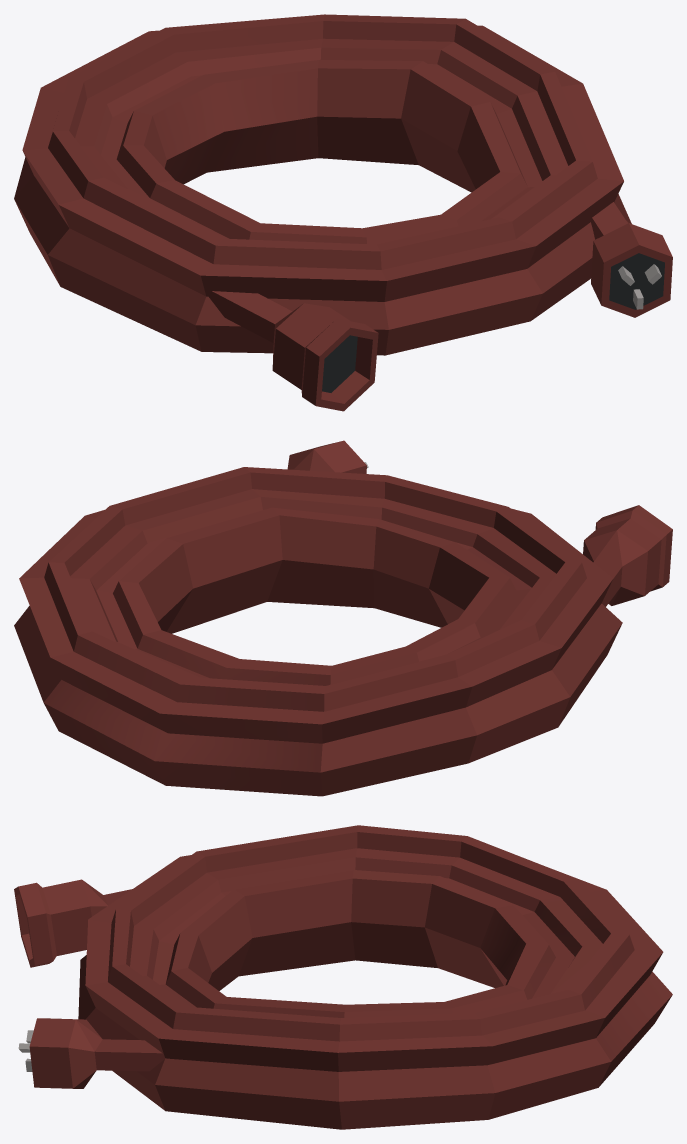
File: SM_Prop_Cable_01.glb
The picture shows the model from 3 angles, top to bottom: view 1: azimuth 30°, elevation 25°; view 2: azimuth 150°, elevation 25°; view 3: azimuth 270°, elevation 25°; orthographic projection. The views are drawn at different scales.
Visible parts, largest first — view 1: SM_Prop_Cable_01; view 2: SM_Prop_Cable_01; view 3: SM_Prop_Cable_01.
Boxes of the visible parts, bbox=[...] form: SM_Prop_Cable_01: bbox=[14, 14, 672, 411]; SM_Prop_Cable_01: bbox=[14, 440, 672, 796]; SM_Prop_Cable_01: bbox=[14, 825, 672, 1129].
Bounding box in the file's own units: 0.4888 × 0.1105 × 0.5739.
1 material, 1 textured.
